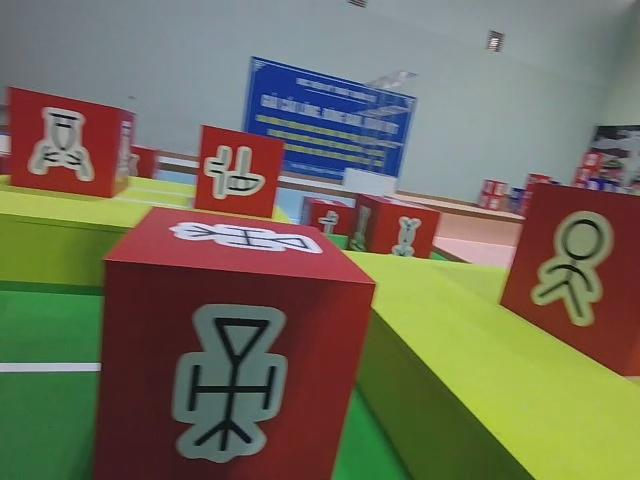R2 Real: (85, 202, 378, 480), (495, 179, 640, 379), (0, 83, 137, 201), (190, 122, 288, 220), (345, 189, 442, 263)
